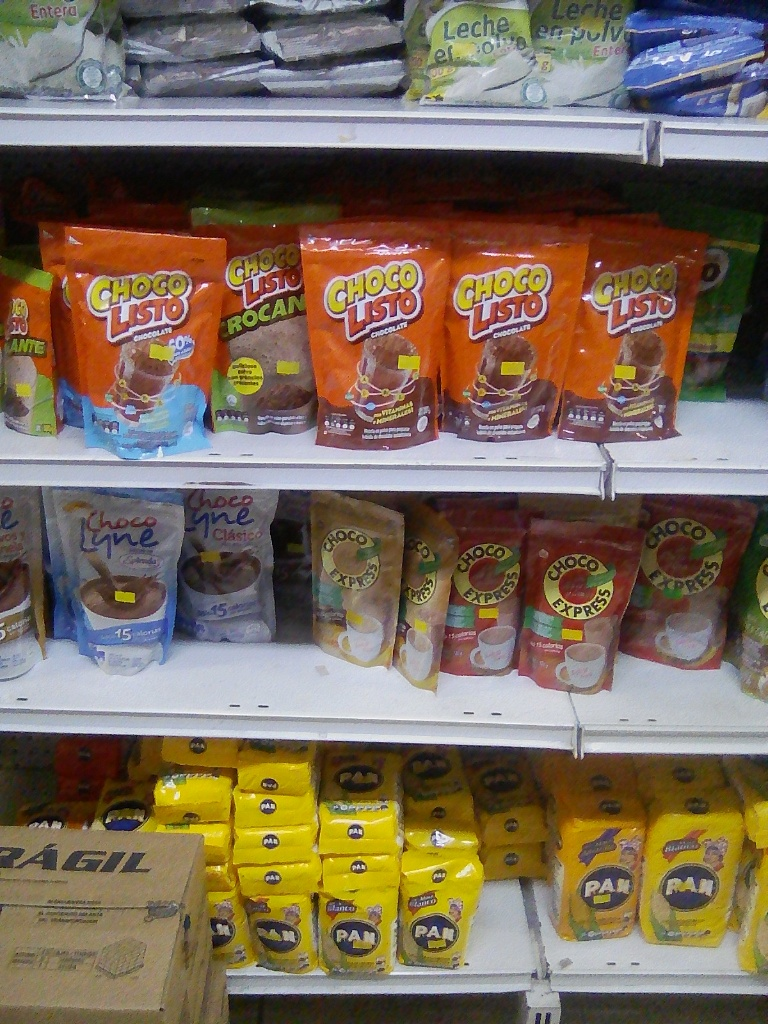COL0170102DYP10000: (3, 256, 66, 442)
COL0170102DYP25000: (197, 204, 335, 438)
COL0170103DYP20000: (305, 220, 447, 446)
COL0170104DYP20000: (64, 228, 227, 460)
